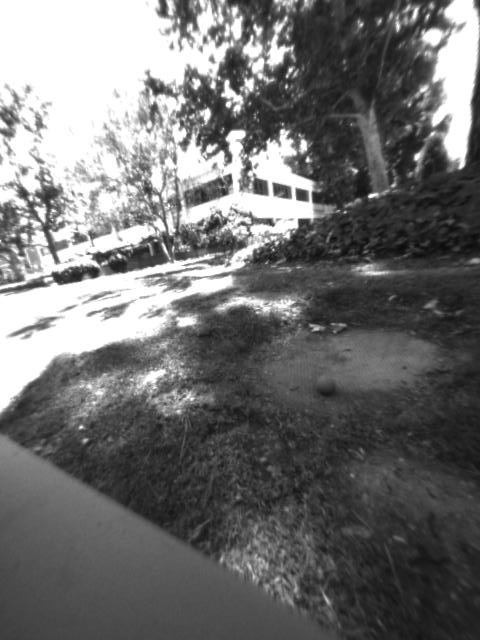dogtoy: (304, 367, 350, 401)
